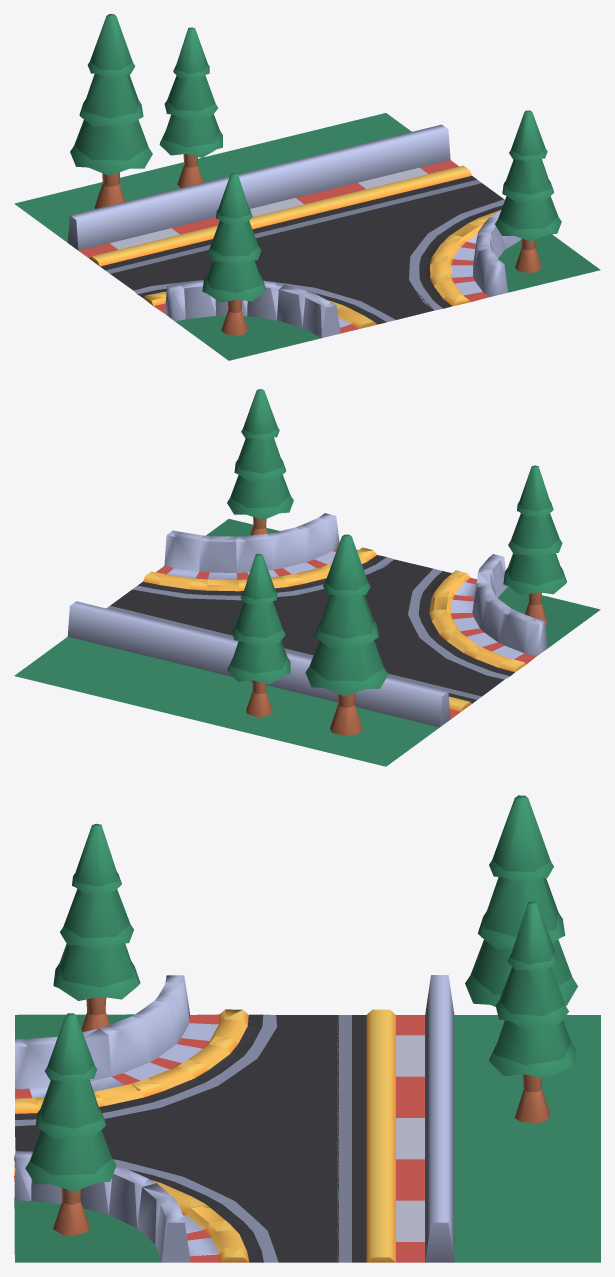
Rendered from track-thin-3-way.glb.
The picture shows the model from 3 angles, top to bottom: view 1: azimuth 30°, elevation 25°; view 2: azimuth 150°, elevation 25°; view 3: azimuth 270°, elevation 25°; orthographic projection. The views are drawn at different scales.
Visible parts, largest first — view 1: track-corner.008; view 2: track-corner.008; view 3: track-corner.008.
Part boxes in pixels (x1,y1,x2,y2): track-corner.008: (14,14,600,360); track-corner.008: (14,389,600,766); track-corner.008: (14,795,600,1262).
Size of the model in its own units: 10.02 by 4.94 by 10.02.
6 materials, 6 textured.
